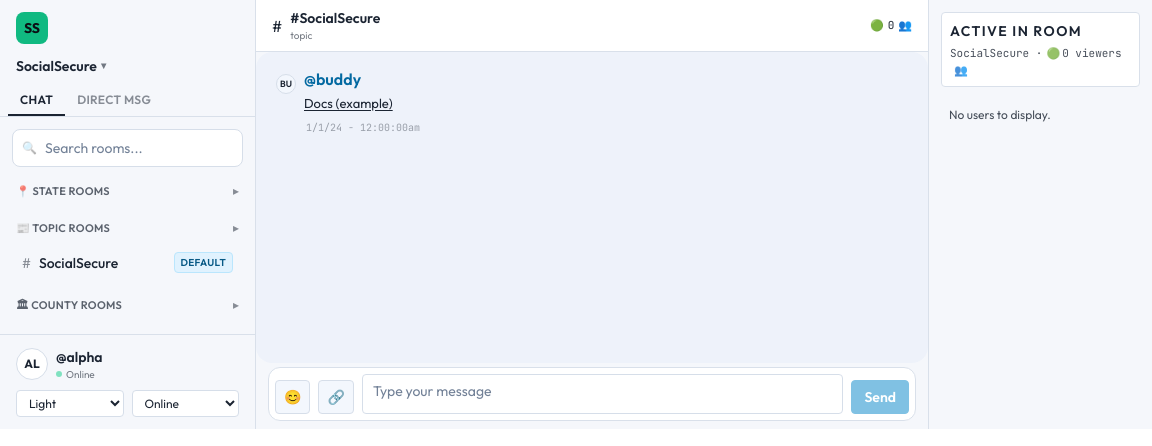
Test: Chat zip room indicator › formats named links and opens user actions from message click
Check: the link "Docs (example)" is shown, box x1=304 y1=95 x2=393 y2=111
Check: the link "@buddy" is shown, box x1=304 y1=67 x2=361 y2=91
Right-click the element showing "BU @buddy Docs (example) 1/1/24 - 12:00:00am" at (348, 102), box x1=276 y1=69 x2=420 y2=134
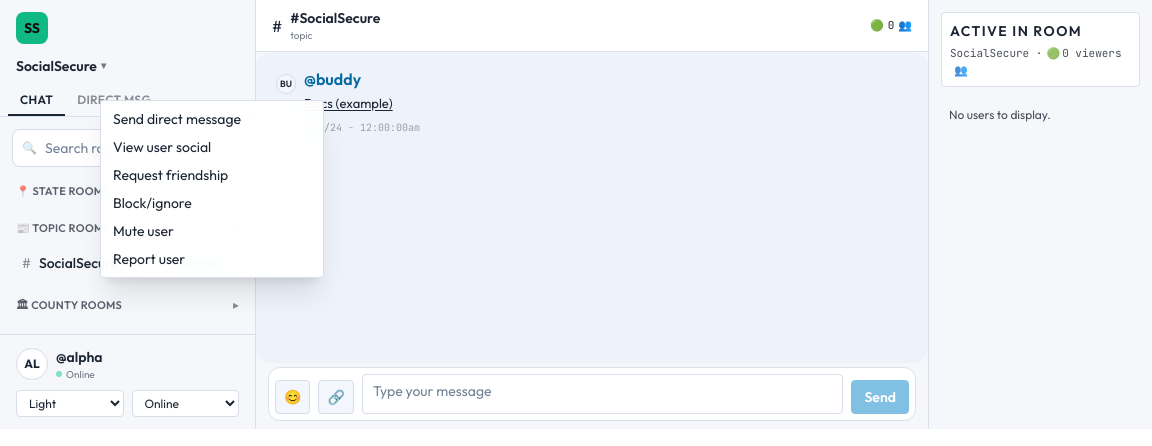
Check: the text "Send direct message" is shown, box x1=105 y1=105 x2=319 y2=133
Check: the text "View user social" is shown, box x1=105 y1=133 x2=319 y2=161
